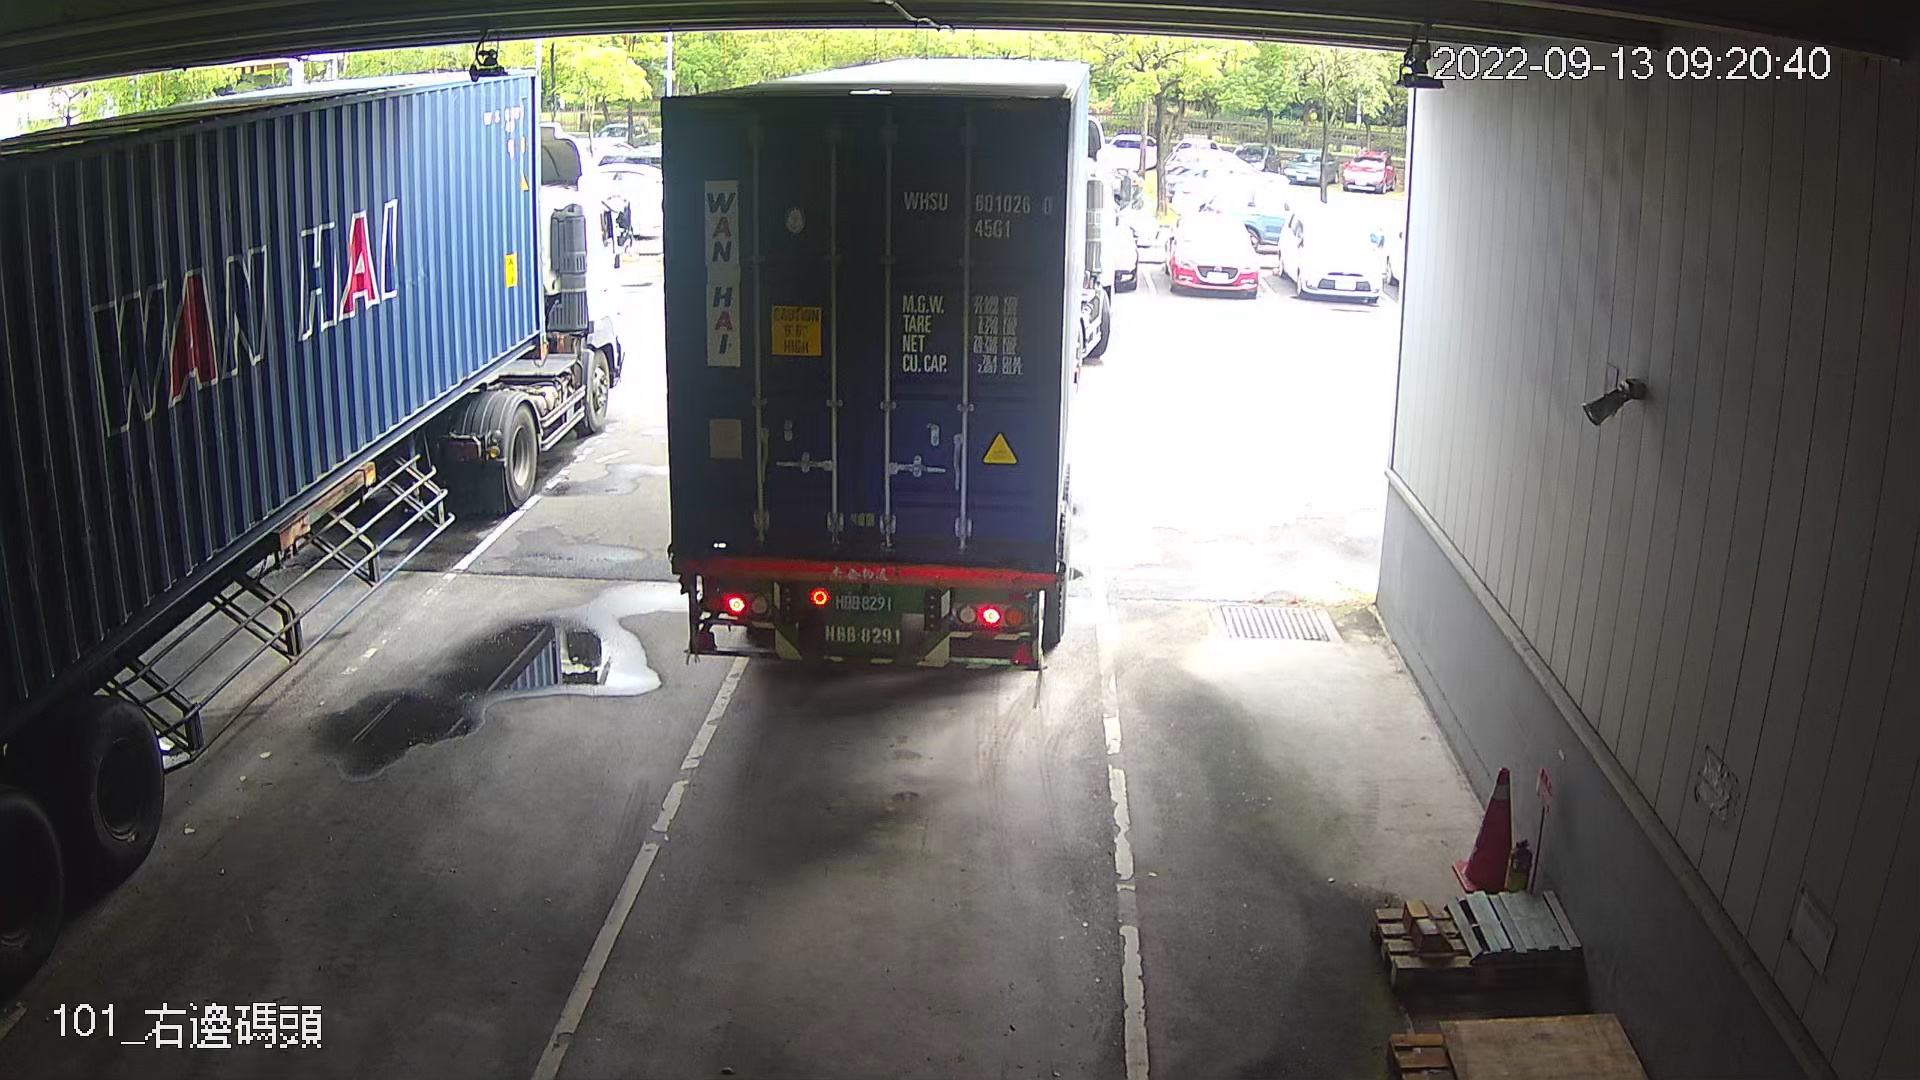container: (894, 175, 1059, 243)
